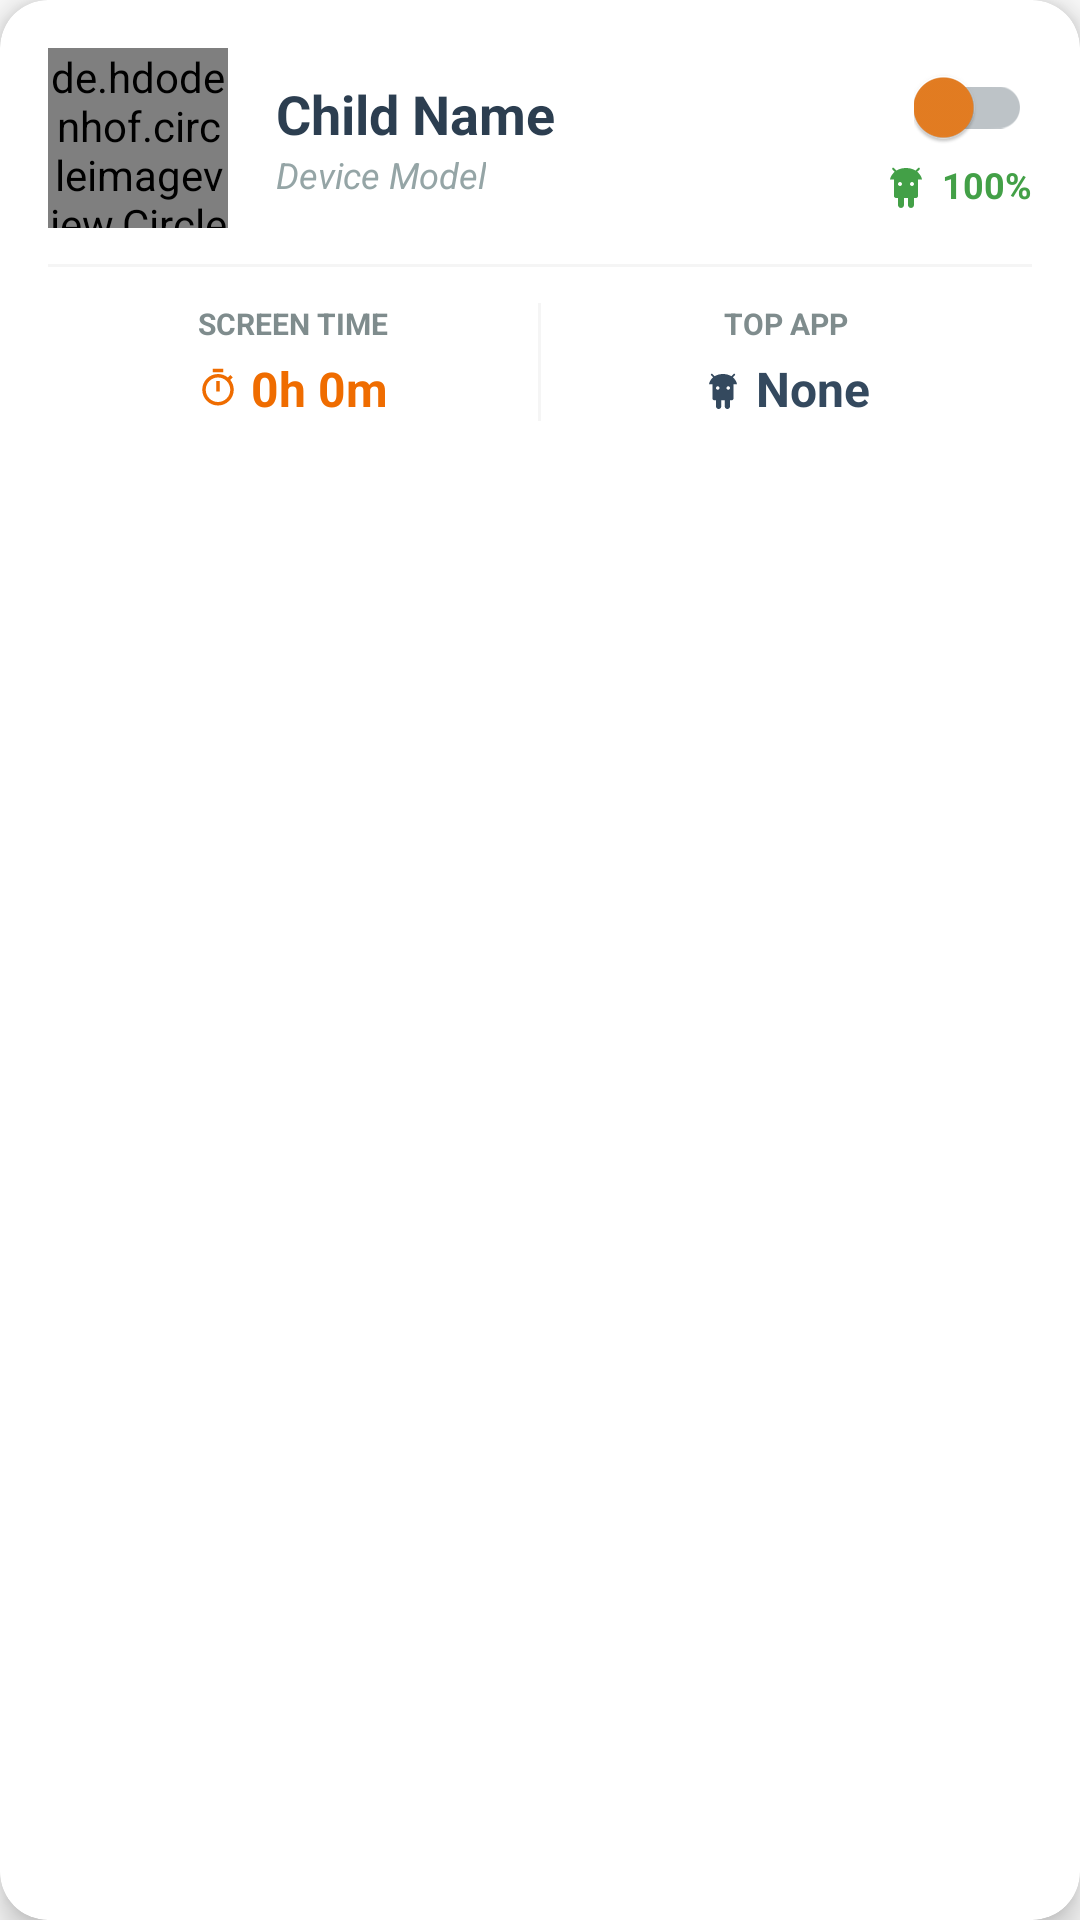

Screen size 1080w x 1920h. Icon name, then its box in pixels as region(x1, y1, x2, y2):
timer: region(202, 368, 234, 406)
